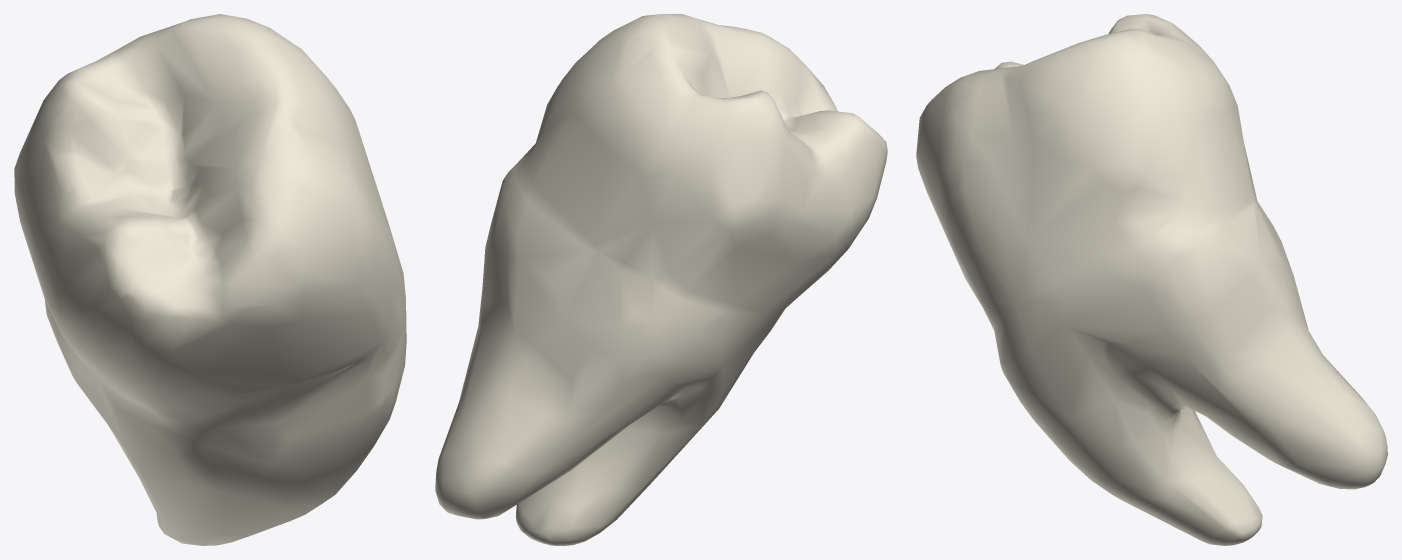
3 views of the same model, side by side, from view 1: azimuth 30°, elevation 25°; view 2: azimuth 150°, elevation 25°; view 3: azimuth 270°, elevation 25° (orthographic). The views are drawn at different scales.
Visible parts, largest first — view 1: ZA_f3d2ad6fbf77464f; view 2: ZA_f3d2ad6fbf77464f; view 3: ZA_f3d2ad6fbf77464f.
Part boxes in pixels (x1=…): ZA_f3d2ad6fbf77464f: x1=14, y1=14, x2=406, y2=545; ZA_f3d2ad6fbf77464f: x1=435, y1=14, x2=887, y2=545; ZA_f3d2ad6fbf77464f: x1=916, y1=14, x2=1387, y2=545.
Size of the model in its own units: 0.0118 by 0.0182 by 0.0161.
